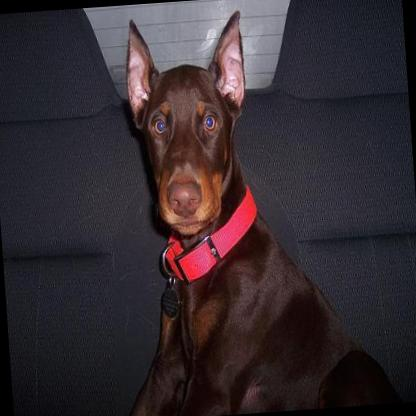Doberman: (98, 0, 403, 416)
